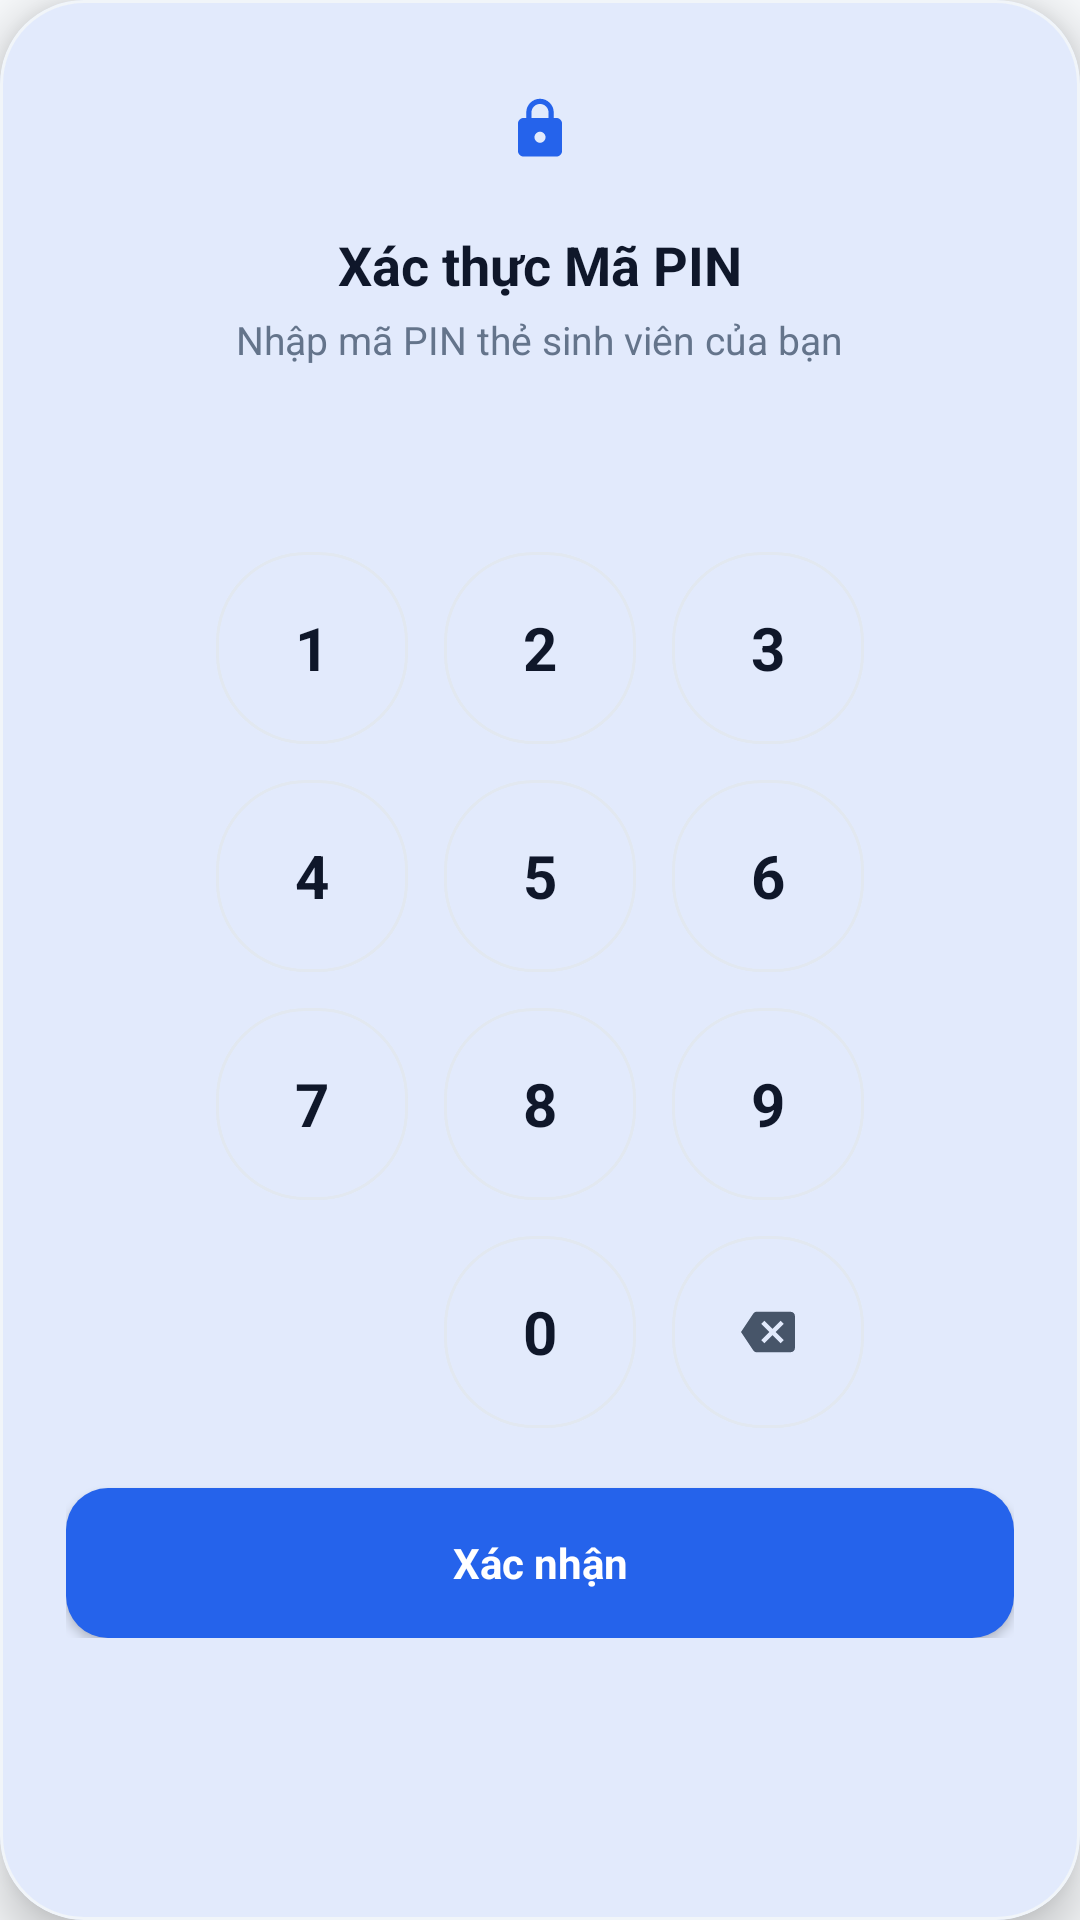

Named icons in this screenshot (1080*1920) and their bounding boxes, (x1, y1, x2, y2):
Xóa: (741, 1311, 795, 1353)
